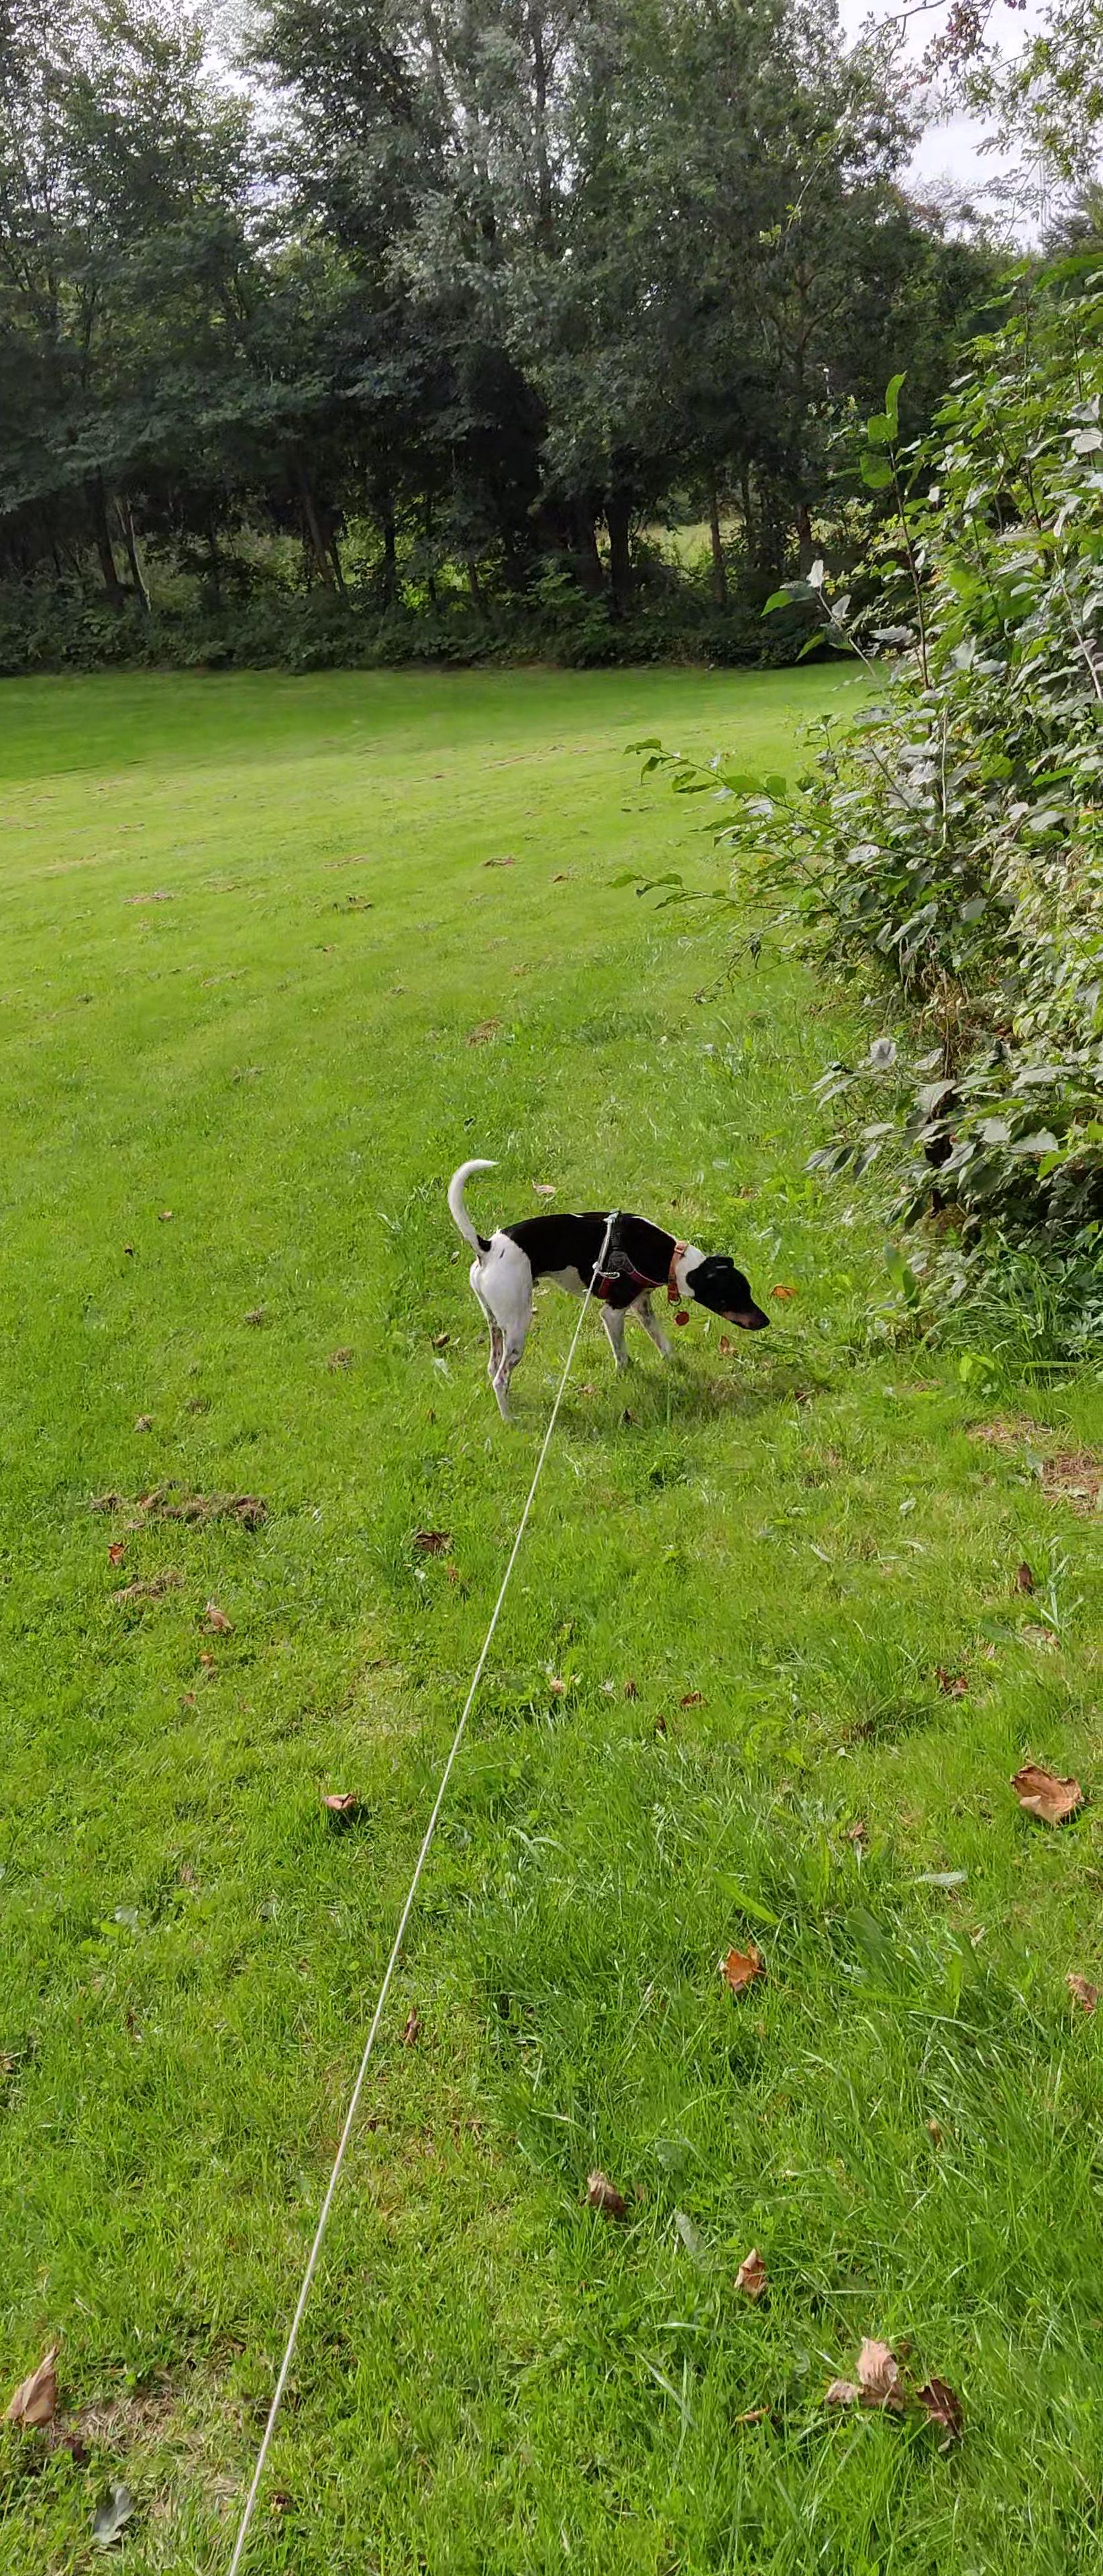Dog: (442, 1152, 781, 1433)
